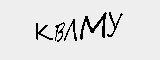В: (54, 20, 64, 44)
К: (34, 19, 53, 45)
Л: (64, 18, 78, 46)
М: (78, 12, 108, 40)
У: (106, 10, 123, 40)
